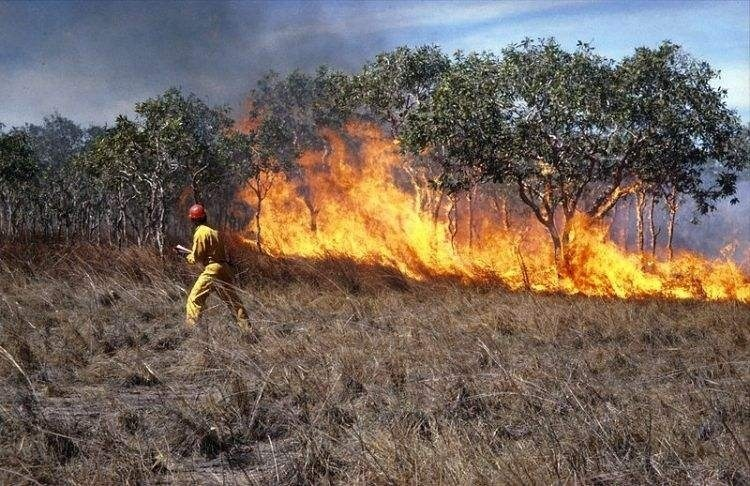fire: (259, 94, 743, 304)
